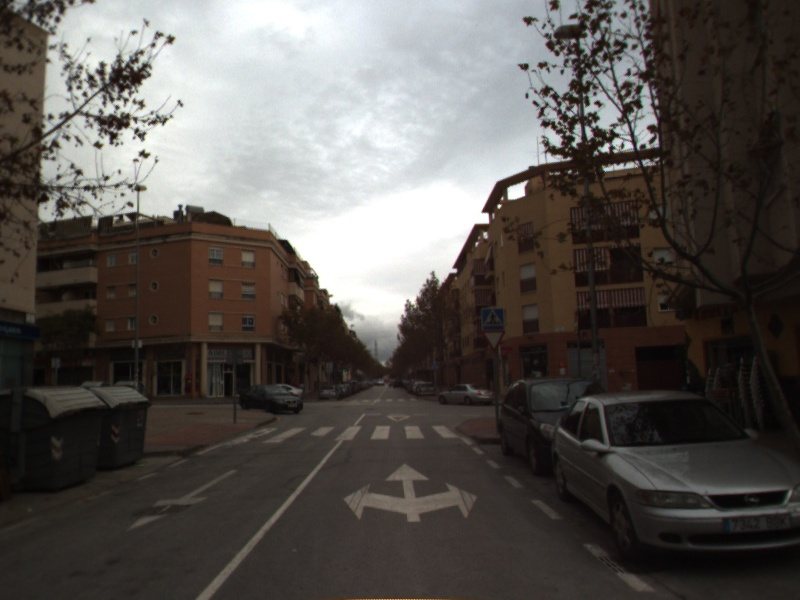STRAIGHT_LEFT_RIGHT: (341, 461, 480, 524)
